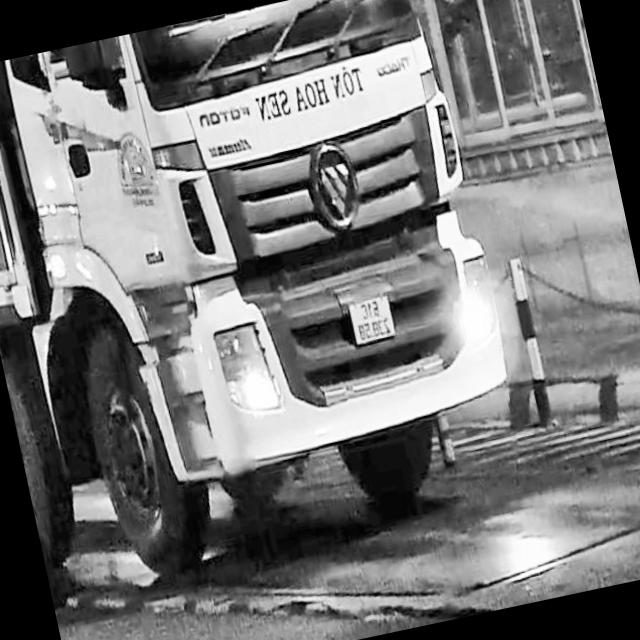Truck: (0, 0, 539, 603)
